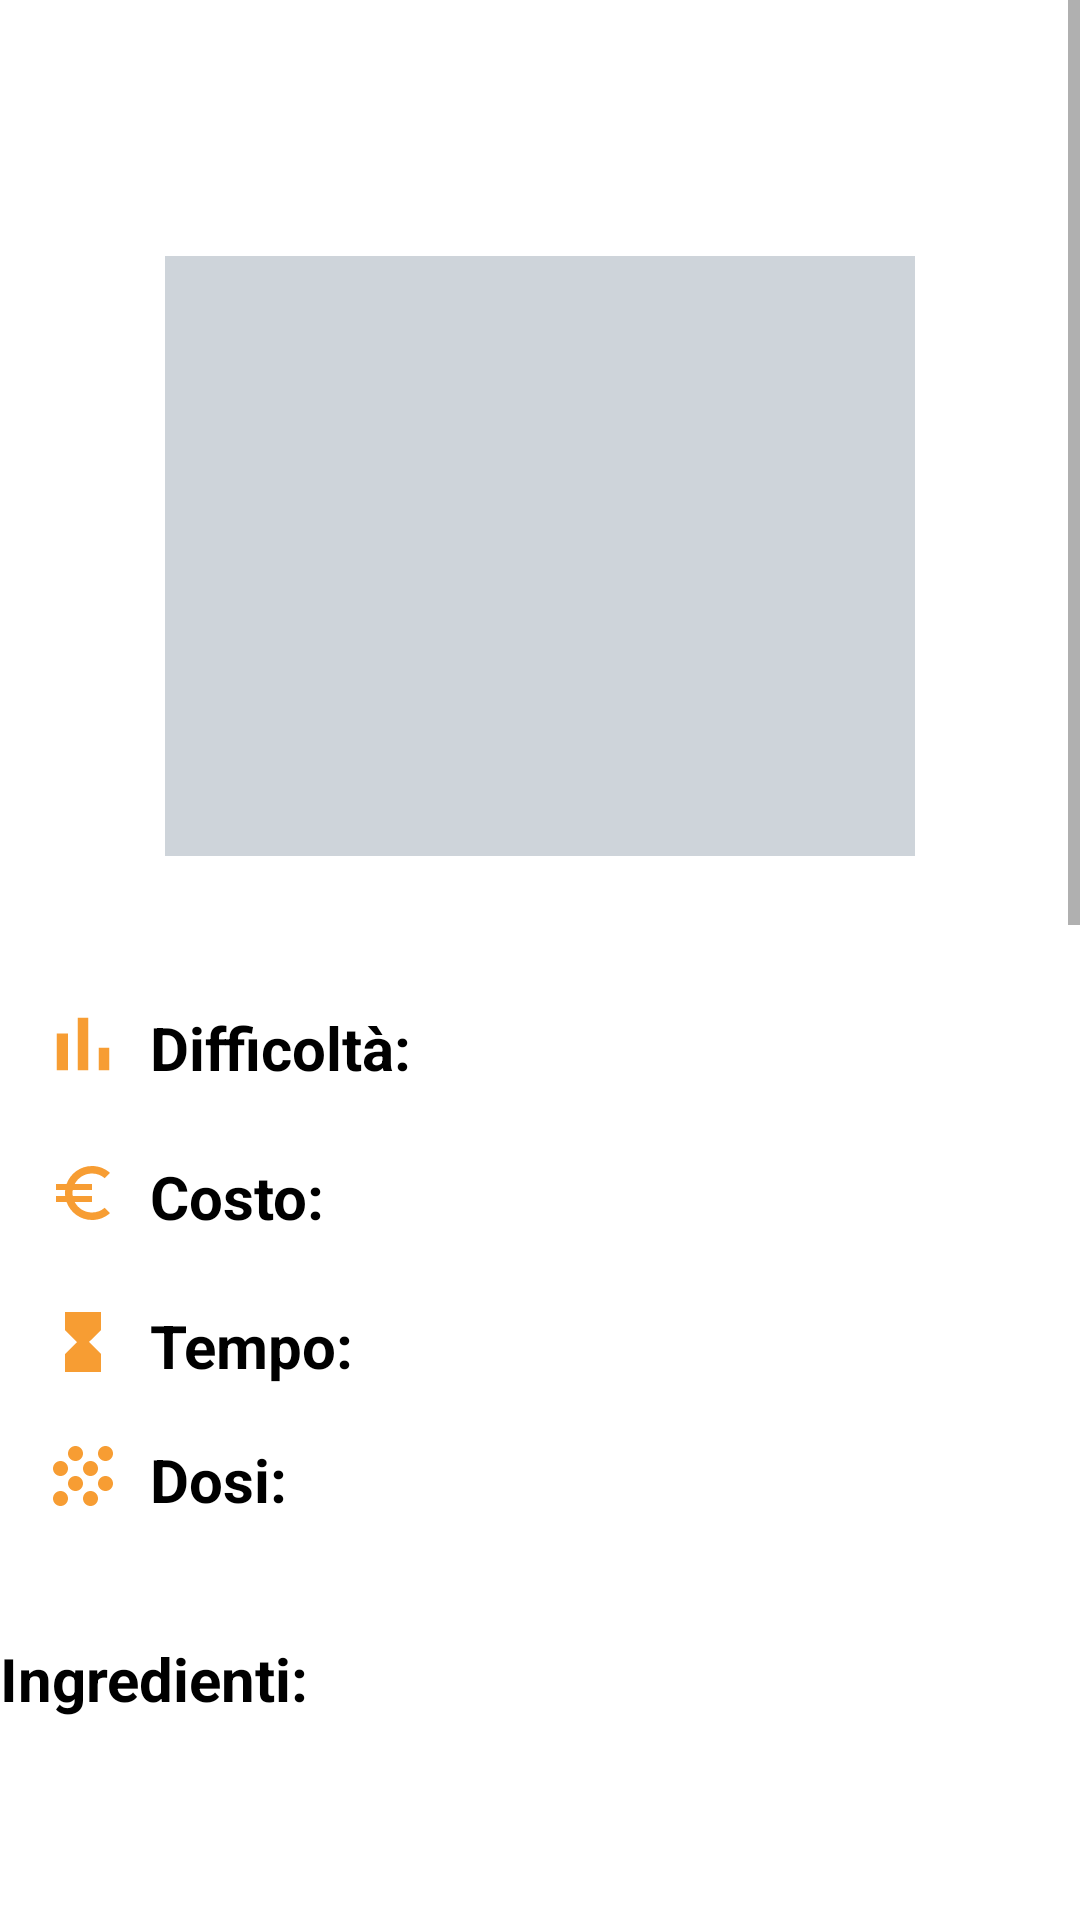

Locate icon controls on the screen. Image size 1080 × 1920, boxes as Rect(x1, y1, x2, y2).
difficoult: Rect(56, 1017, 110, 1071)
